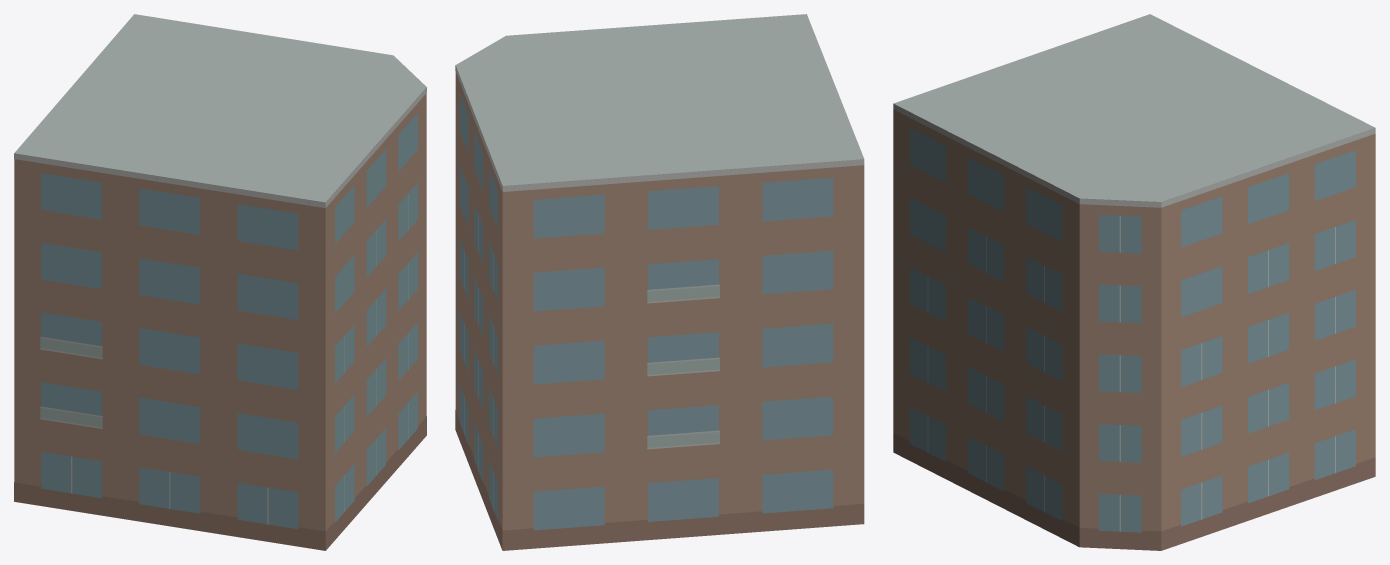
Rendered from survey-upis-32940109.glb.
The picture shows the model from 3 angles, left to right: view 1: azimuth 30°, elevation 25°; view 2: azimuth 150°, elevation 25°; view 3: azimuth 270°, elevation 25°; orthographic projection. The views are drawn at different scales.
Visible parts, largest first — view 1: survey-upis-32940109.tmp; view 2: survey-upis-32940109.tmp; view 3: survey-upis-32940109.tmp.
Part boxes in pixels (x1=…): survey-upis-32940109.tmp: x1=14, y1=14, x2=426, y2=550; survey-upis-32940109.tmp: x1=455, y1=14, x2=864, y2=550; survey-upis-32940109.tmp: x1=893, y1=14, x2=1375, y2=550.
Bounding box in the file's own units: 17.06 × 14.75 × 18.49.
